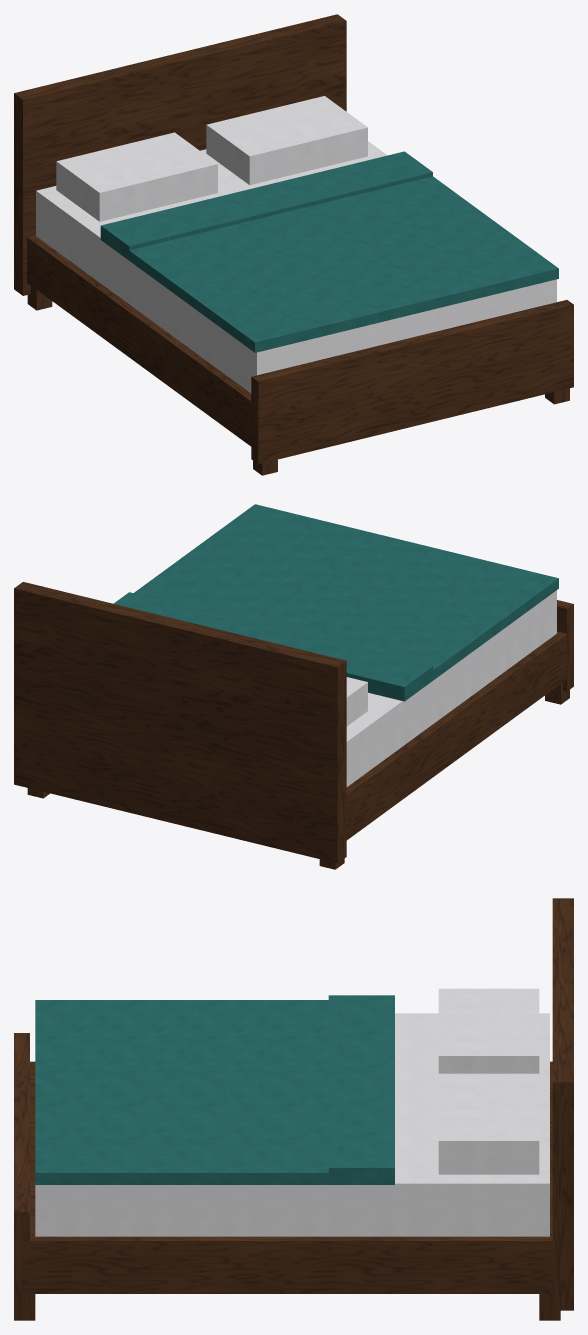
The picture shows the model from 3 angles, top to bottom: view 1: azimuth 30°, elevation 25°; view 2: azimuth 150°, elevation 25°; view 3: azimuth 270°, elevation 25°; orthographic projection. The views are drawn at different scales.
Visible parts, largest first — view 1: Bed_Game; view 2: Bed_Game; view 3: Bed_Game.
Part boxes in pixels (x1=…): Bed_Game: x1=14, y1=14, x2=573, y2=475; Bed_Game: x1=14, y1=504, x2=573, y2=869; Bed_Game: x1=14, y1=898, x2=573, y2=1320.
Bounding box in the file's own units: 1.64 × 1.01 × 2.11.
Materials: 3 (3 with a texture image).
